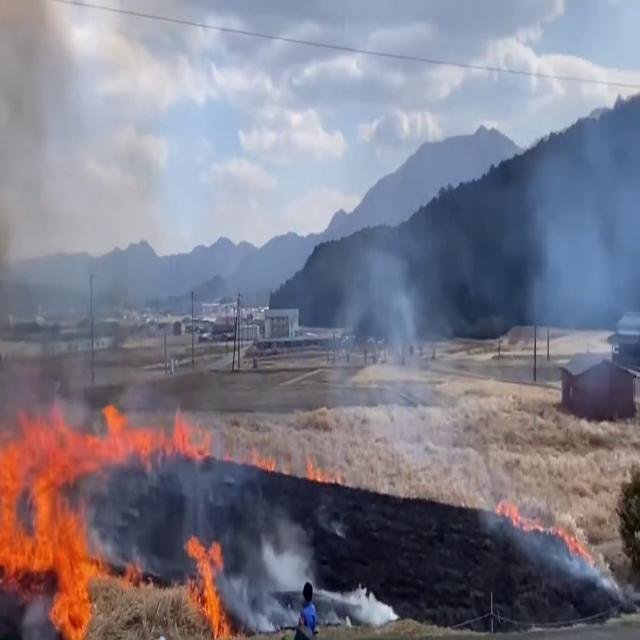Fire: (0, 409, 114, 636), (100, 398, 216, 465), (499, 491, 594, 568), (182, 522, 238, 637)
Smoke: (1, 0, 138, 437), (523, 92, 639, 348), (332, 228, 442, 390), (232, 501, 316, 626)
